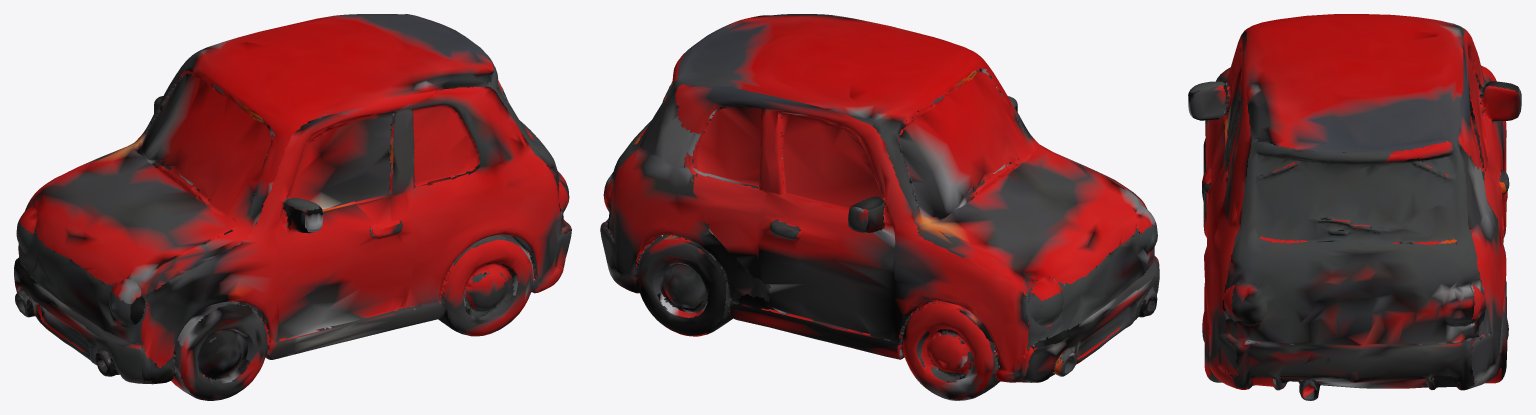
Rendered from blue_bubble_car_red.glb.
3 renders of one model, left to right at view 1: azimuth 30°, elevation 25°; view 2: azimuth 150°, elevation 25°; view 3: azimuth 270°, elevation 25°, orthographic. The views are drawn at different scales.
Size of the model in its own units: 2 by 1.05 by 1.15.
